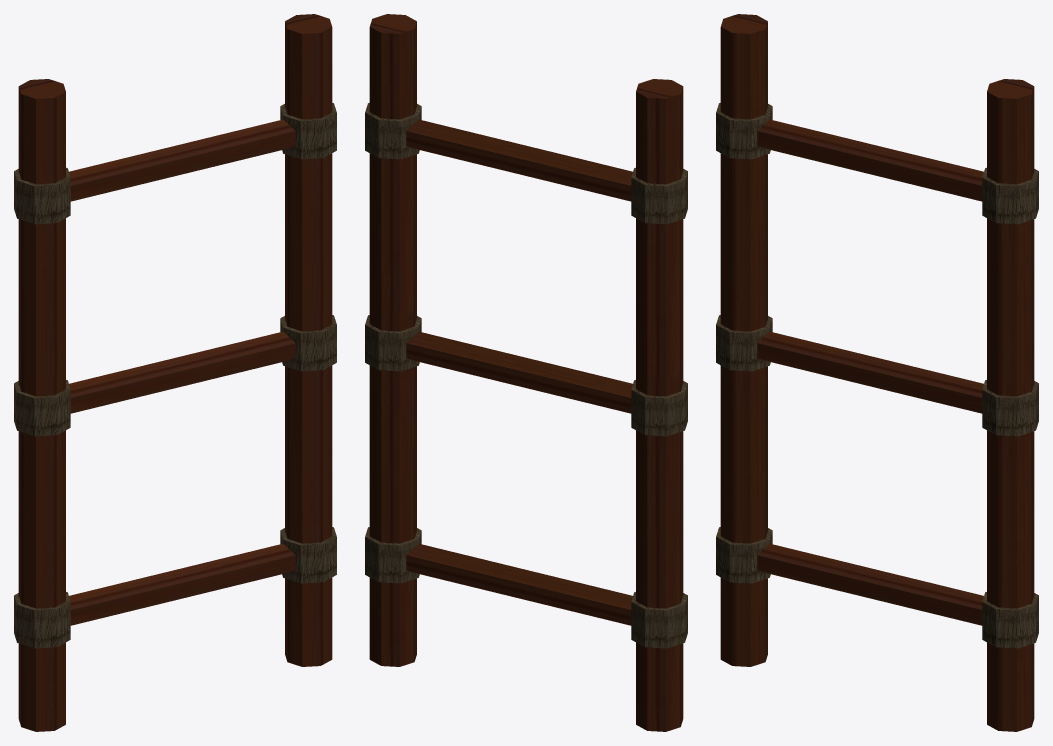
File: ladder_01.glb
The picture shows the model from 3 angles, left to right: view 1: azimuth 30°, elevation 25°; view 2: azimuth 150°, elevation 25°; view 3: azimuth 330°, elevation 25°; orthographic projection.
Visible parts, largest first — view 1: ladder_01; view 2: ladder_01; view 3: ladder_01.
Part boxes in pixels (x1,y1,x2,y2): ladder_01: (14, 14, 336, 731); ladder_01: (365, 14, 687, 731); ladder_01: (716, 14, 1038, 731).
Bounding box in the file's own units: 0.524 × 1 × 0.084.
Materials: 2 (2 with a texture image).
